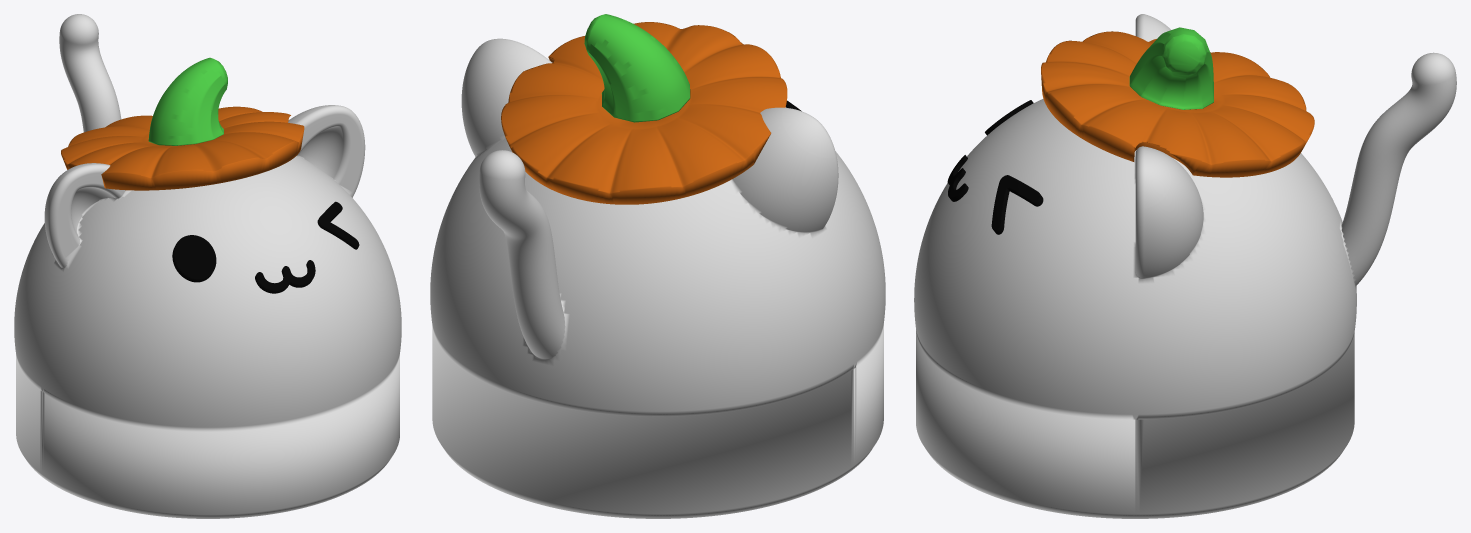
The model's file is cat-pum1.glb.
3 renders of one model, left to right at view 1: azimuth 30°, elevation 25°; view 2: azimuth 150°, elevation 25°; view 3: azimuth 270°, elevation 25°, orthographic. The views are drawn at different scales.
Parts seen in each view (by area): view 1: o.<; view 2: o.<; view 3: o.<.
Boxes of the visible parts, <box> form: o.<: <box>14,14,401,518</box>; o.<: <box>430,14,885,518</box>; o.<: <box>914,14,1456,518</box>.
Bounding box in the file's own units: 29.75 × 30.31 × 36.46.
